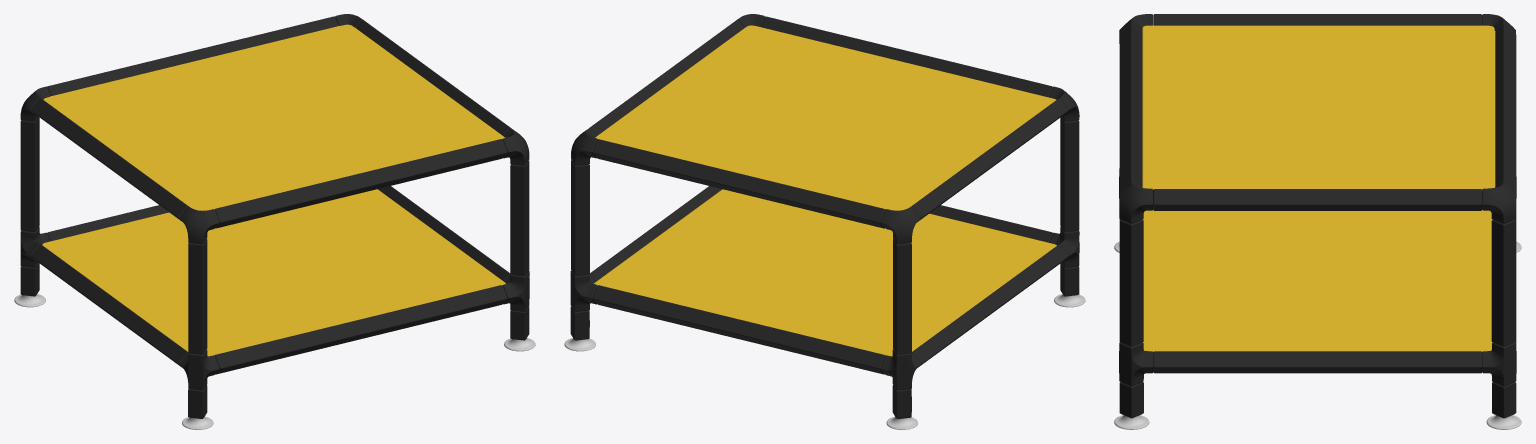
3 renders of one model, left to right at view 1: azimuth 30°, elevation 25°; view 2: azimuth 150°, elevation 25°; view 3: azimuth 270°, elevation 25°, orthographic. The views are drawn at different scales.
Visible parts, largest first — view 1: 420x374x154; view 2: 420x374x154; view 3: 420x374x154.
Boxes of the visible parts, x1,y1,x2,y2 form: 420x374x154: [14, 14, 535, 429]; 420x374x154: [564, 14, 1085, 429]; 420x374x154: [1114, 14, 1521, 429].
Bounding box in the file's own units: 0.5099 × 0.2933 × 0.4631.
